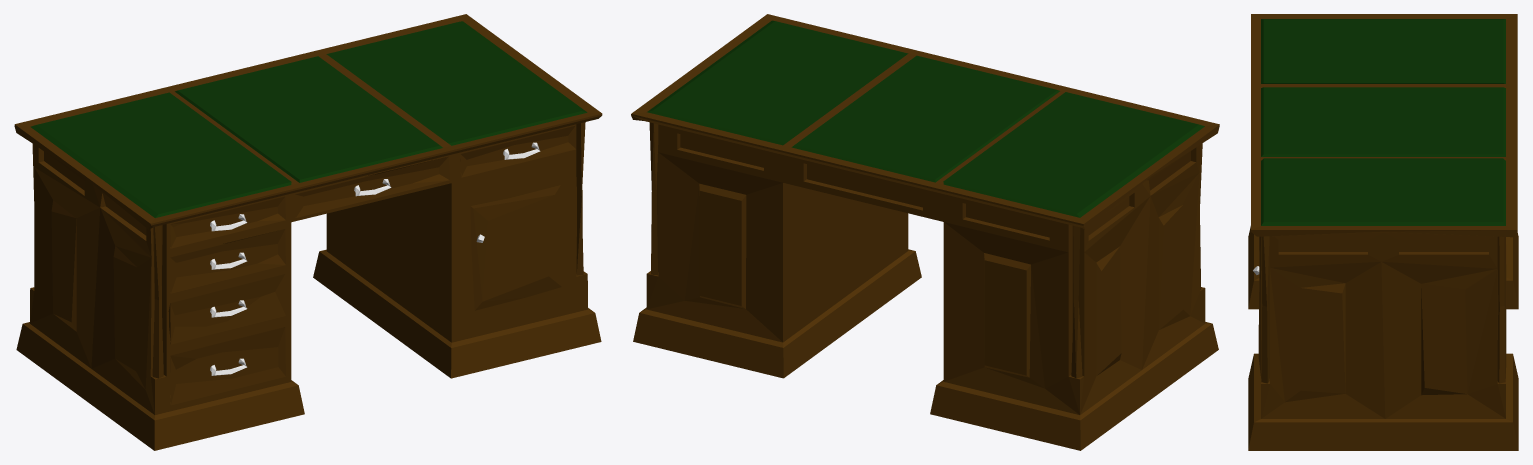
The model's file is bureau_ancien.fbx.
3 renders of one model, left to right at view 1: azimuth 30°, elevation 25°; view 2: azimuth 150°, elevation 25°; view 3: azimuth 270°, elevation 25°, orthographic. The views are drawn at different scales.
Visible parts, largest first — view 1: nureau; view 2: nureau; view 3: nureau.
Boxes of the visible parts, x1,y1,x2,y2 form: nureau: (14,14,602,450); nureau: (631,14,1219,450); nureau: (1248,14,1518,450).
Bounding box in the file's own units: 167 × 80.53 × 88.42.
